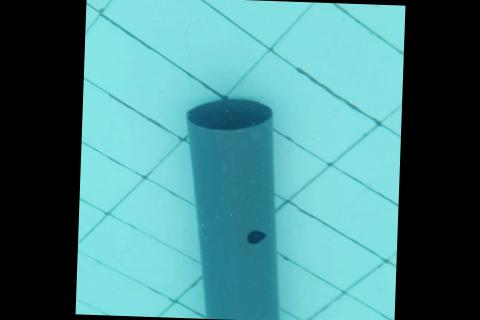kebocoran: (245, 230, 267, 245)
